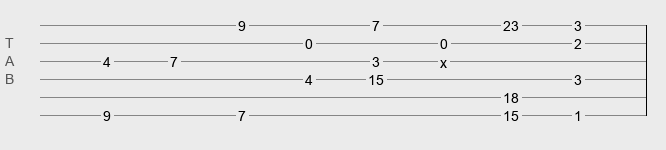0: (305, 36, 313, 46), (440, 36, 448, 46)
1: (574, 108, 582, 118)
15: (368, 72, 384, 82), (503, 108, 519, 118)
18: (503, 90, 519, 100)
2: (574, 36, 582, 46)
23: (503, 18, 519, 28)
3: (372, 54, 380, 64), (574, 18, 582, 28), (574, 72, 582, 82)
4: (103, 54, 111, 64), (305, 72, 313, 82)
7: (170, 54, 178, 64), (238, 108, 246, 118), (372, 18, 380, 28)
9: (103, 108, 111, 118), (238, 18, 246, 28)
x: (440, 55, 447, 63)
